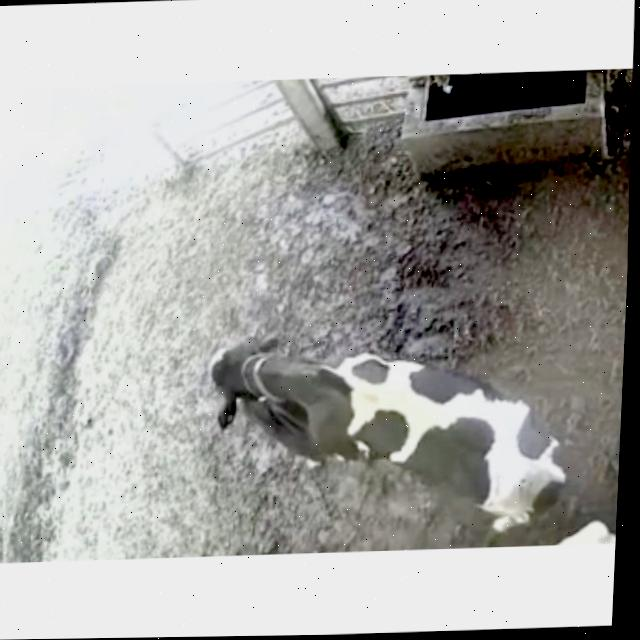ride: (194, 306, 592, 537)
